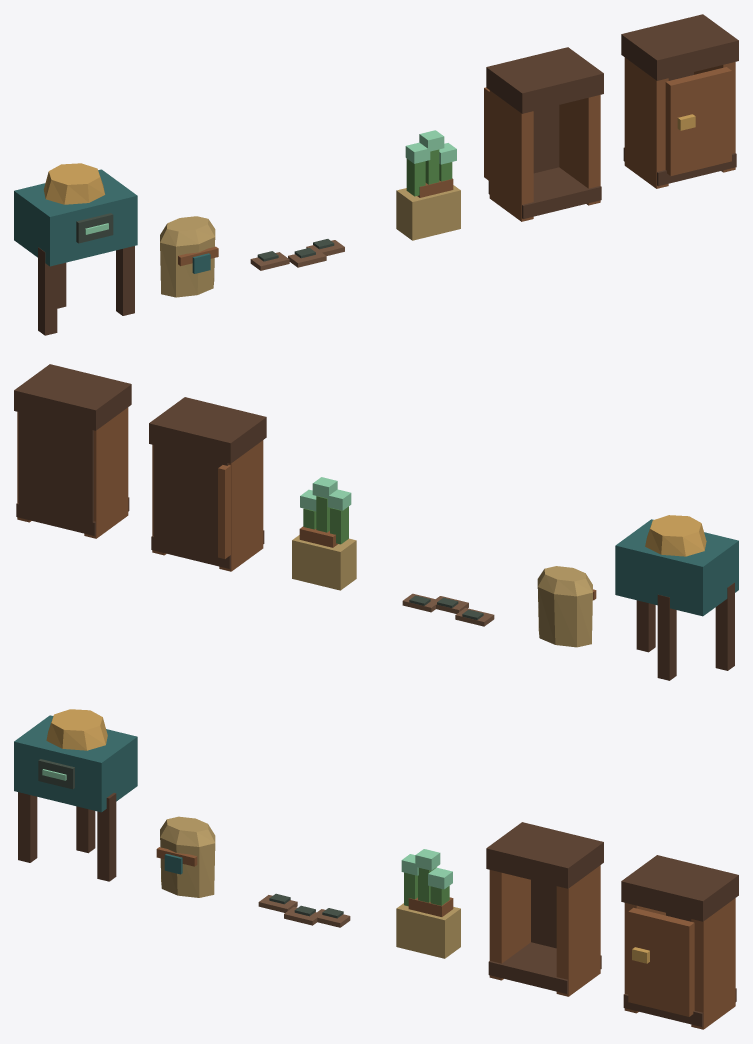
Rendered from sum-fungus-visitors-model.obj.
3 views of the same model, one above another, from view 1: azimuth 30°, elevation 25°; view 2: azimuth 150°, elevation 25°; view 3: azimuth 330°, elevation 25° (orthographic).
Parts seen in each view (by area): view 1: Visitors; view 2: Visitors; view 3: Visitors.
Part boxes in pixels (left/top/right/bottom): Visitors: left=14, top=14, right=738, bottom=335; Visitors: left=14, top=364, right=738, bottom=680; Visitors: left=14, top=709, right=738, bottom=1029.
Size of the model in its own units: 5.98 by 1.16 by 0.695.
